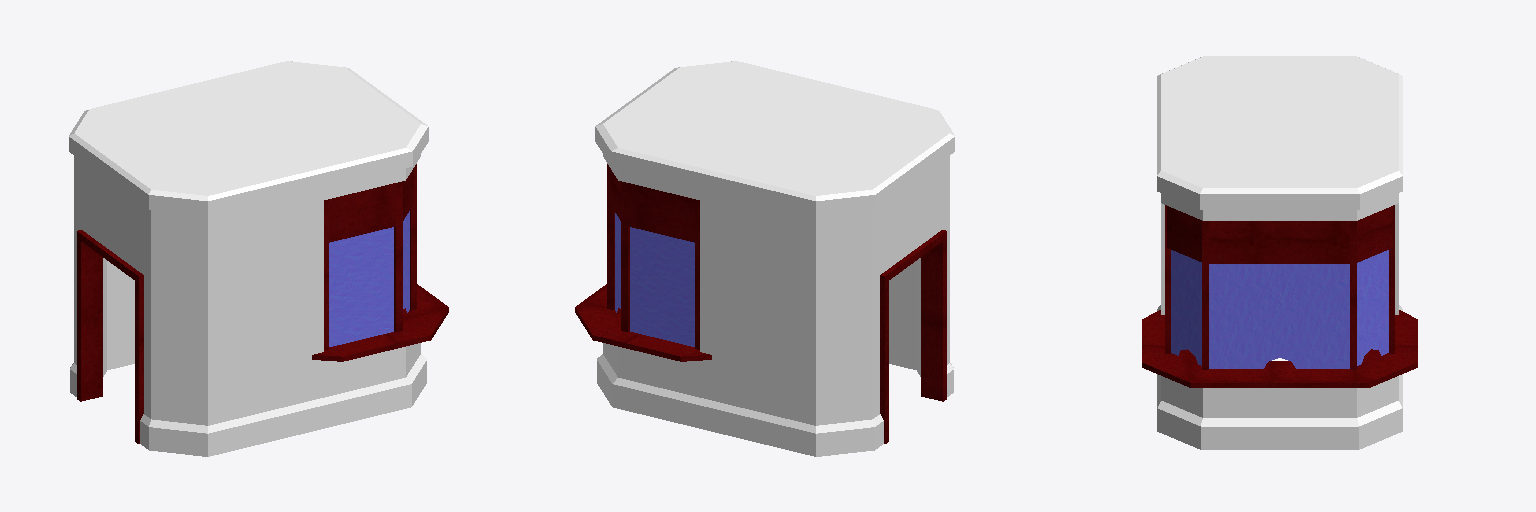
The picture shows the model from 3 angles: view 1: azimuth 30°, elevation 25°; view 2: azimuth 150°, elevation 25°; view 3: azimuth 270°, elevation 25°; orthographic projection.
Parts seen in each view (by area): view 1: TicketBooth_TicketBooth.001; view 2: TicketBooth_TicketBooth.001; view 3: TicketBooth_TicketBooth.001.
Part boxes in pixels (x1,y1,x2,y2): TicketBooth_TicketBooth.001: (69, 61, 448, 456); TicketBooth_TicketBooth.001: (575, 61, 954, 456); TicketBooth_TicketBooth.001: (1142, 56, 1417, 449).
Size of the model in its own units: 4.07 by 3.4 by 3.28.
Materials: 4 (2 with a texture image).